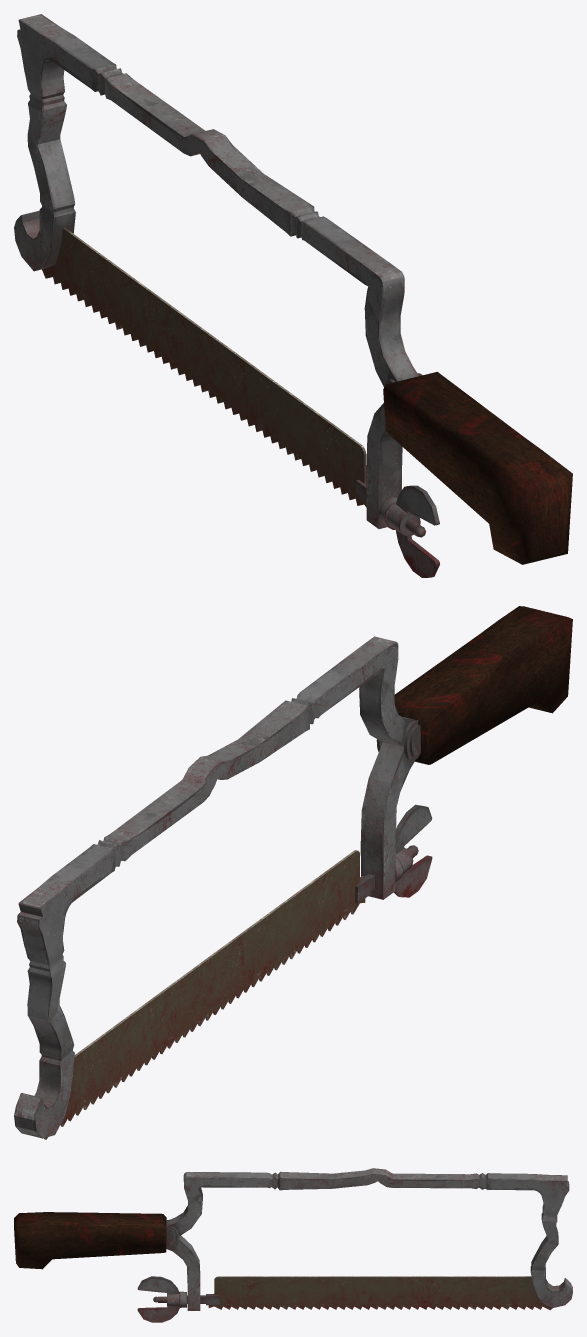
Rendered from Bone saw.fbx.
3 renders of one model, top to bottom at view 1: azimuth 30°, elevation 25°; view 2: azimuth 150°, elevation 25°; view 3: azimuth 270°, elevation 25°, orthographic. The views are drawn at different scales.
Visible parts, largest first — view 1: body_low, handler_low, saw_low, crutilka_low; view 2: body_low, saw_low, handler_low, crutilka_low; view 3: body_low, saw_low, handler_low, crutilka_low, handlerS_low.
Boxes of the visible parts, x1=… form: body_low: x1=14, y1=14, x2=418, y2=528; handler_low: x1=383, y1=371, x2=572, y2=564; saw_low: x1=42, y1=227, x2=366, y2=507; crutilka_low: x1=356, y1=480, x2=439, y2=577; body_low: x1=14, y1=636, x2=414, y2=1138; saw_low: x1=44, y1=850, x2=365, y2=1139; handler_low: x1=394, y1=606, x2=572, y2=764; crutilka_low: x1=355, y1=804, x2=432, y2=903; body_low: x1=166, y1=1168, x2=572, y2=1310; saw_low: x1=208, y1=1276, x2=552, y2=1310; handler_low: x1=14, y1=1212, x2=166, y2=1269; crutilka_low: x1=137, y1=1276, x2=219, y2=1322; handlerS_low: x1=166, y1=1220, x2=179, y2=1247.
Bounding box in the file's own units: 3.9 × 17.69 × 59.31.
